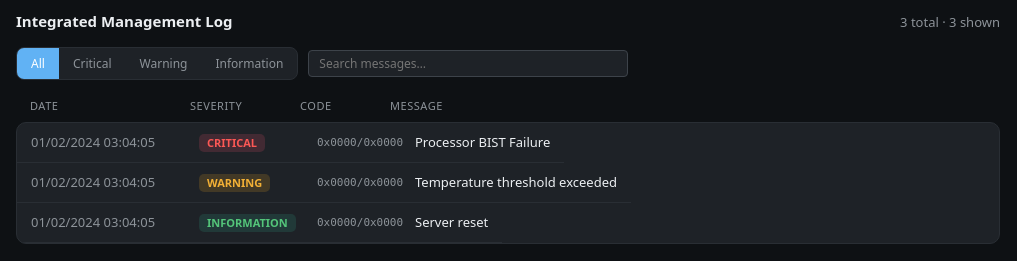
Test: ImlTab filtering (worker-backed) › filters to warning only
Expected: the text "Processor BIST Failure" is shown, [415, 133, 550, 152]
Click the button "Warning".
click(163, 64)  # box [126, 48, 201, 79]
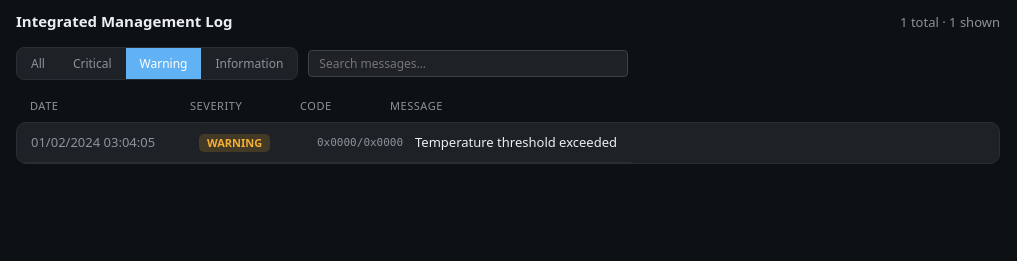
Expected: the text "Temperature threshold exceeded" is shown, [415, 133, 617, 152]
Expected: the text "BIST Failure" is gone
